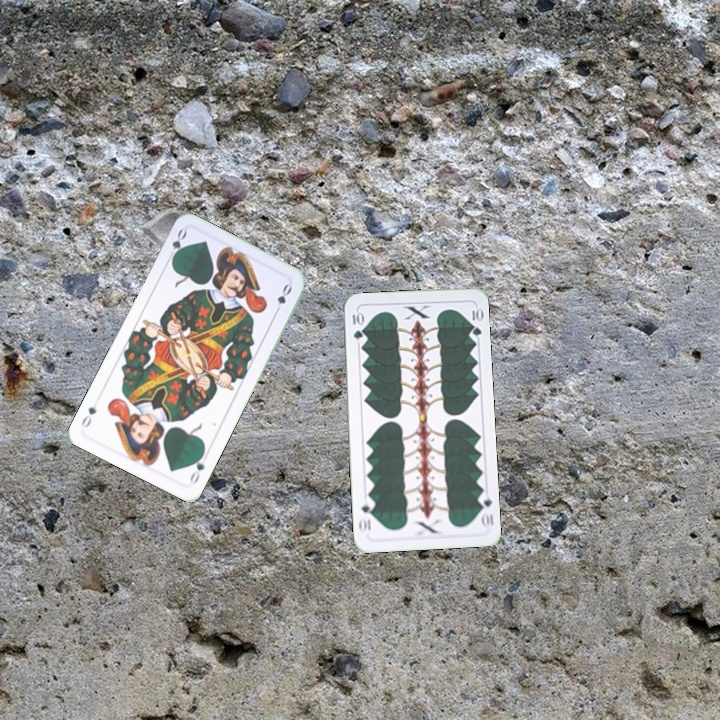G10: (475, 490, 496, 530), (348, 308, 365, 342)
GO: (163, 225, 189, 265), (185, 447, 207, 486)
